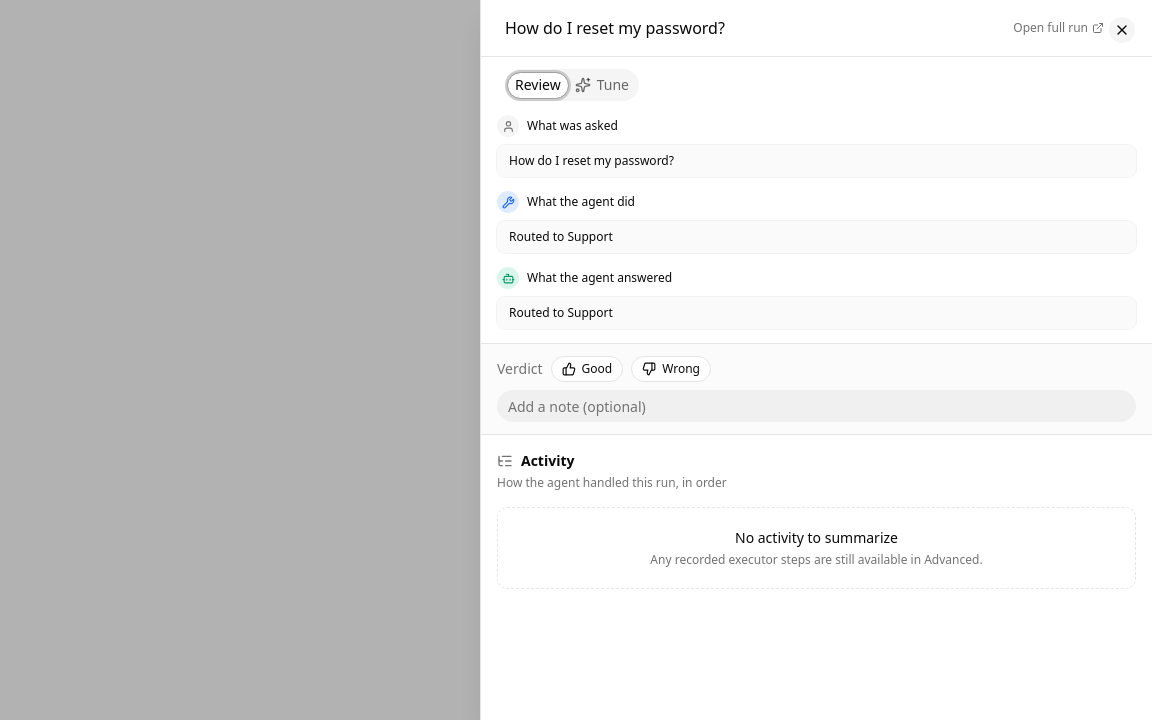
Scenario: RunReviewSheet › switches to Tune tab on click
The width and height of the screenshot is (1152, 720).
Click the tab "Tune" at (602, 85), box [568, 72, 636, 98]
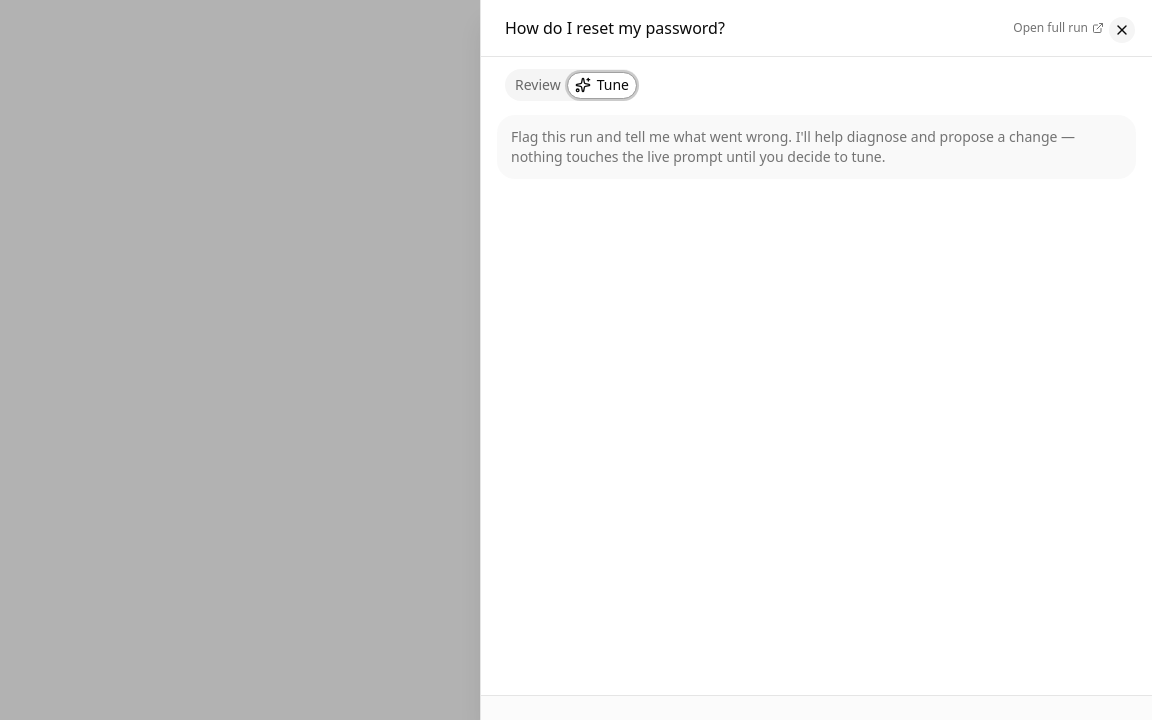
Check: the text "Flag this run and tell me what went wrong" is shown, box [511, 127, 1075, 166]
